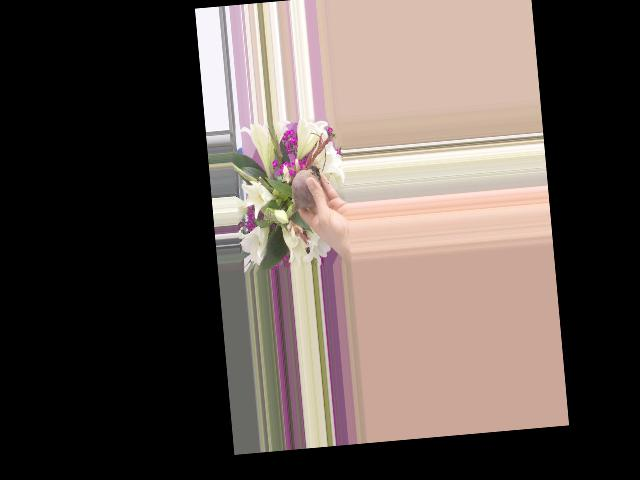beet: (282, 164, 324, 220)
